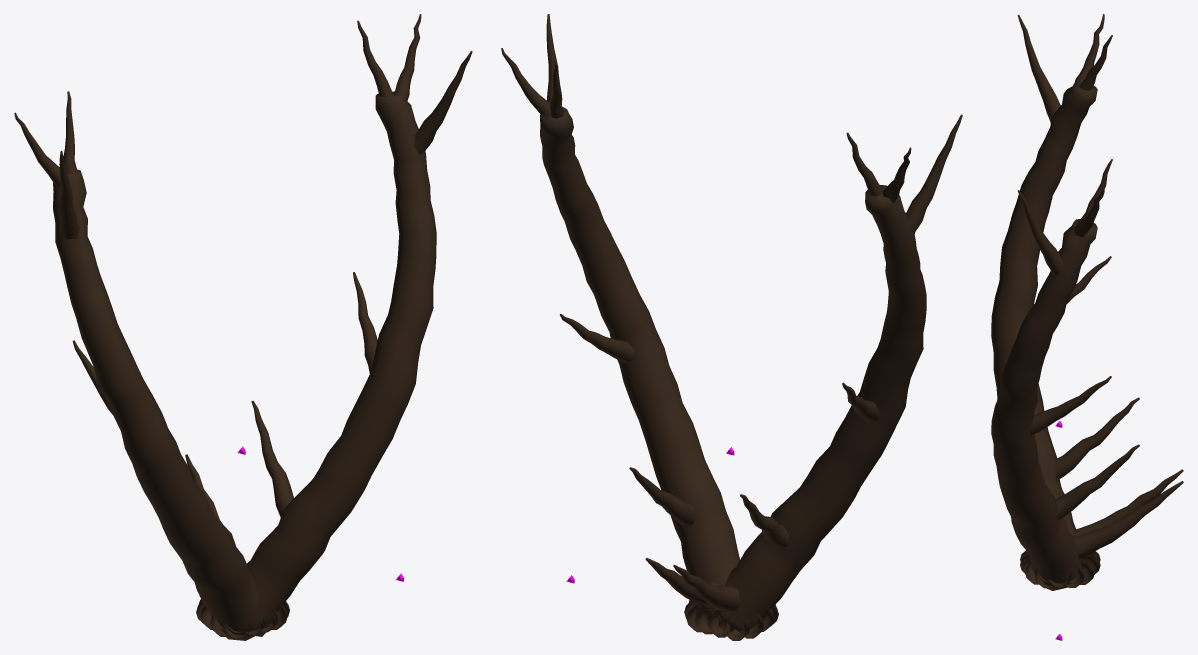
File: antlers.glb
3 views of the same model, side by side, from view 1: azimuth 30°, elevation 25°; view 2: azimuth 150°, elevation 25°; view 3: azimuth 270°, elevation 25° (orthographic). The views are drawn at different scales.
Parts seen in each view (by area): view 1: Antler_Right, Antler_Left; view 2: Antler_Right, Antler_Left; view 3: Antler_Right, Antler_Left.
Boxes of the visible parts, <box> form: Antler_Right: <box>185,14,472,636</box>; Antler_Left: <box>14,91,289,640</box>; Antler_Right: <box>501,14,778,640</box>; Antler_Left: <box>673,114,962,637</box>; Antler_Right: <box>991,159,1183,590</box>; Antler_Left: <box>991,14,1183,588</box>.
Size of the model in its own units: 2.6 by 3.35 by 1.2.
